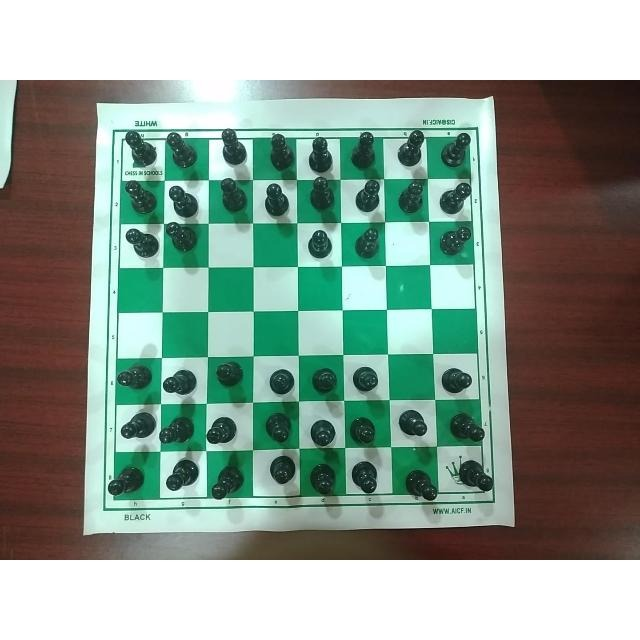black-pawn: (119, 127, 159, 168), (215, 122, 251, 166), (303, 133, 342, 173), (120, 176, 159, 216), (455, 458, 495, 497), (162, 127, 200, 167), (206, 464, 246, 502), (120, 225, 163, 259), (437, 180, 475, 218), (263, 409, 301, 447), (403, 466, 443, 502), (215, 172, 248, 215), (107, 461, 144, 499), (438, 129, 477, 165), (166, 178, 202, 217), (393, 128, 428, 168), (113, 360, 153, 394), (264, 129, 296, 171), (162, 459, 201, 493), (448, 409, 488, 442), (163, 219, 198, 256), (261, 180, 293, 220), (438, 362, 478, 394), (348, 129, 380, 168), (436, 223, 475, 255), (349, 458, 381, 497), (305, 177, 337, 215), (267, 452, 298, 491), (308, 224, 338, 263), (266, 364, 300, 398), (205, 412, 240, 445), (162, 366, 198, 398), (355, 222, 382, 264), (398, 403, 432, 436), (160, 414, 196, 445), (211, 356, 245, 388), (309, 364, 341, 398), (308, 416, 340, 450), (349, 412, 381, 446), (350, 362, 383, 394), (396, 179, 427, 213), (120, 411, 154, 441), (310, 461, 338, 497), (356, 179, 384, 213)
